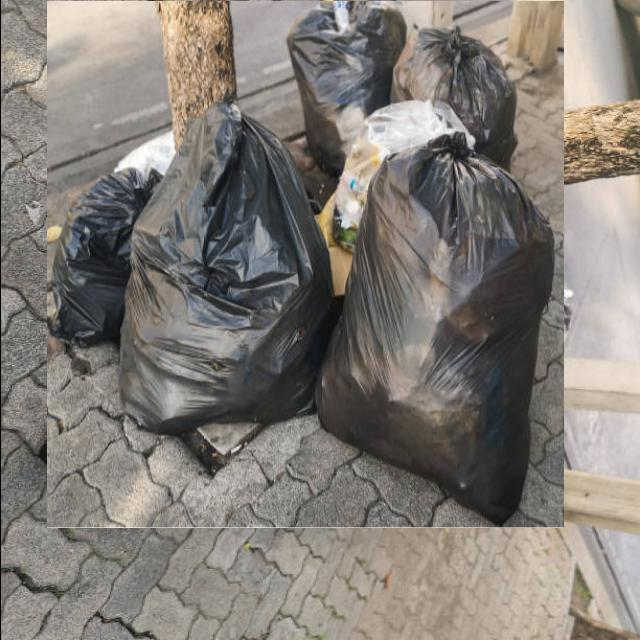Trashbag: (332, 132, 548, 531), (133, 97, 337, 445), (387, 11, 533, 174), (271, 0, 398, 138), (49, 172, 132, 336)
